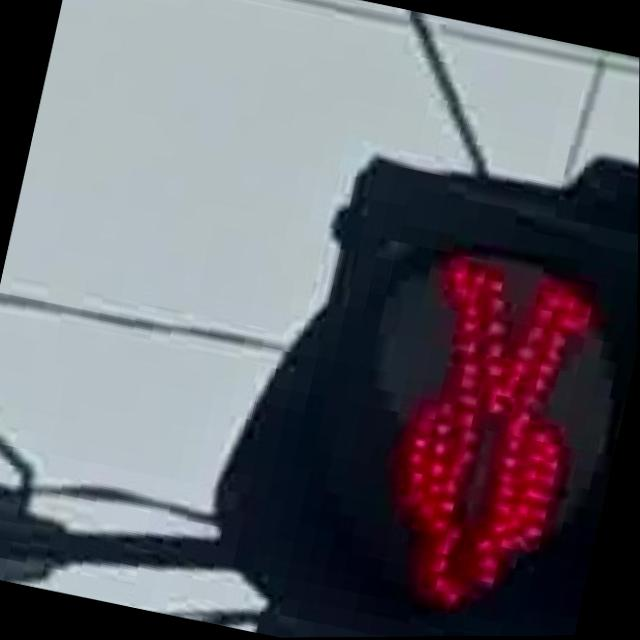red_light: (335, 232, 621, 638)
